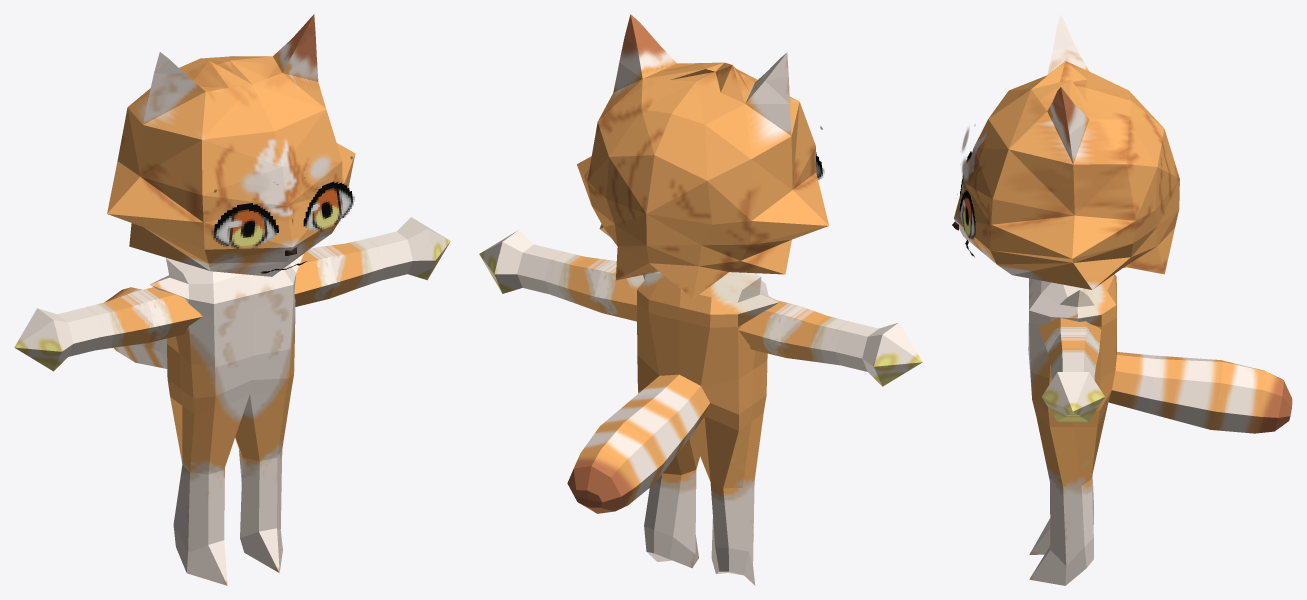
The model's file is linkbutfurry.glb.
The picture shows the model from 3 angles, left to right: view 1: azimuth 30°, elevation 25°; view 2: azimuth 150°, elevation 25°; view 3: azimuth 270°, elevation 25°; orthographic projection. The views are drawn at different scales.
Visible parts, largest first — view 1: green_fix.001; view 2: green_fix.001; view 3: green_fix.001.
Boxes of the visible parts, box(x1,y1,x2,y2) form: green_fix.001: box(14, 14, 450, 585); green_fix.001: box(479, 14, 922, 585); green_fix.001: box(952, 14, 1292, 585).
Size of the model in its own units: 1.25 by 1.46 by 0.8727.
Materials: 8 (7 with a texture image).
